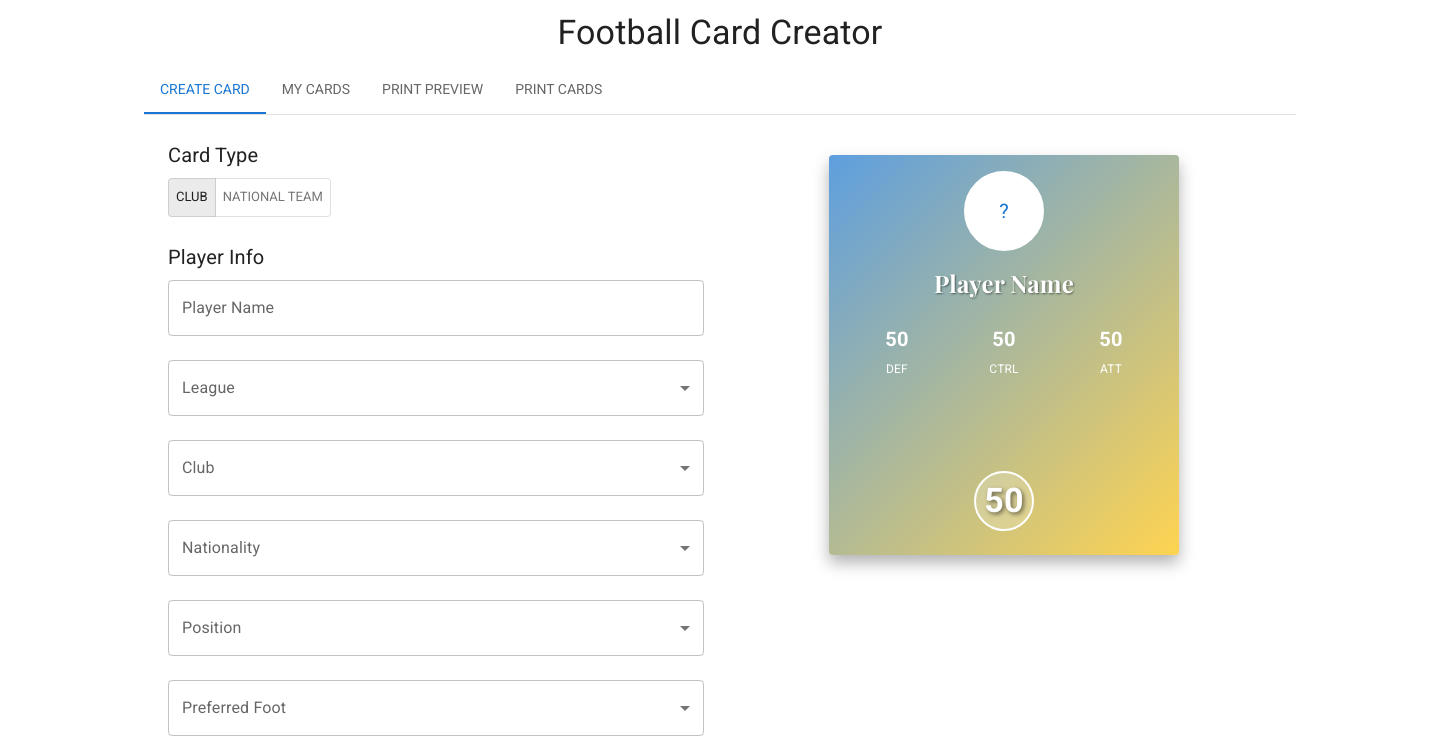
Test: Font persistence › switching between saved cards shows each card's fonts
Click the tab "My Cards": (316, 90) [266, 66, 366, 114]
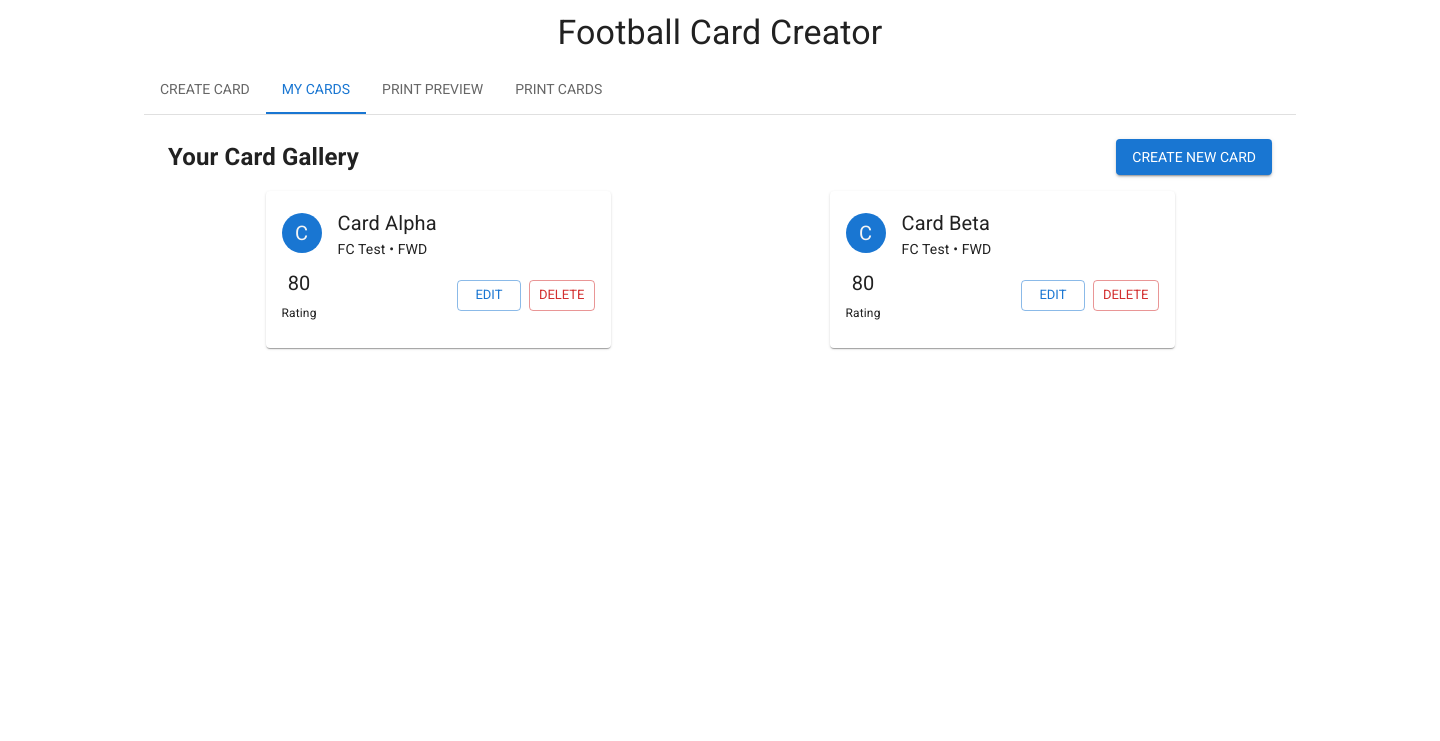
// Edit first card and verify its font
Click the button "Edit" below "Card Alpha": (489, 296) [457, 280, 521, 311]
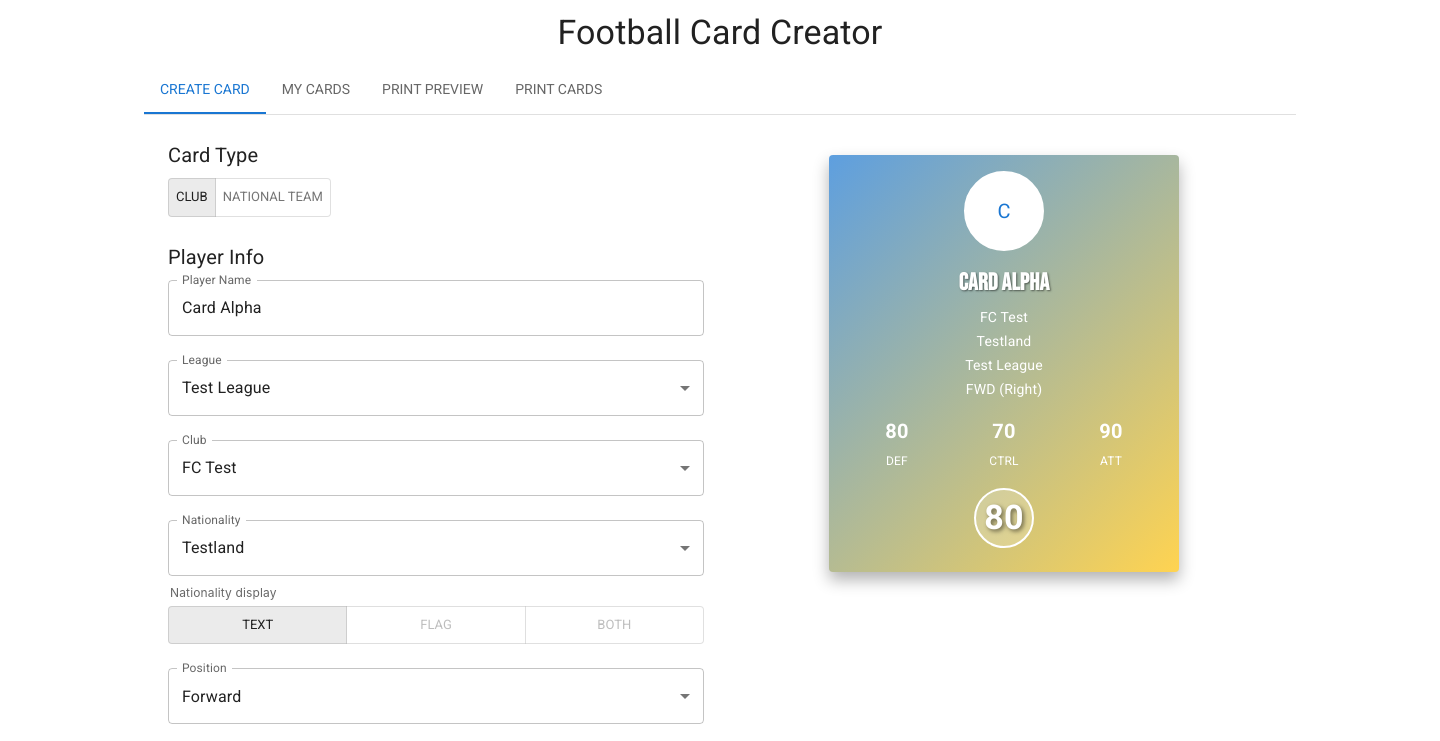
Check: the field labelled "Player Name" is shown, box [168, 280, 704, 336]
// Return to gallery and edit second card
Click the tab "My Cards": (316, 90) [266, 66, 366, 114]
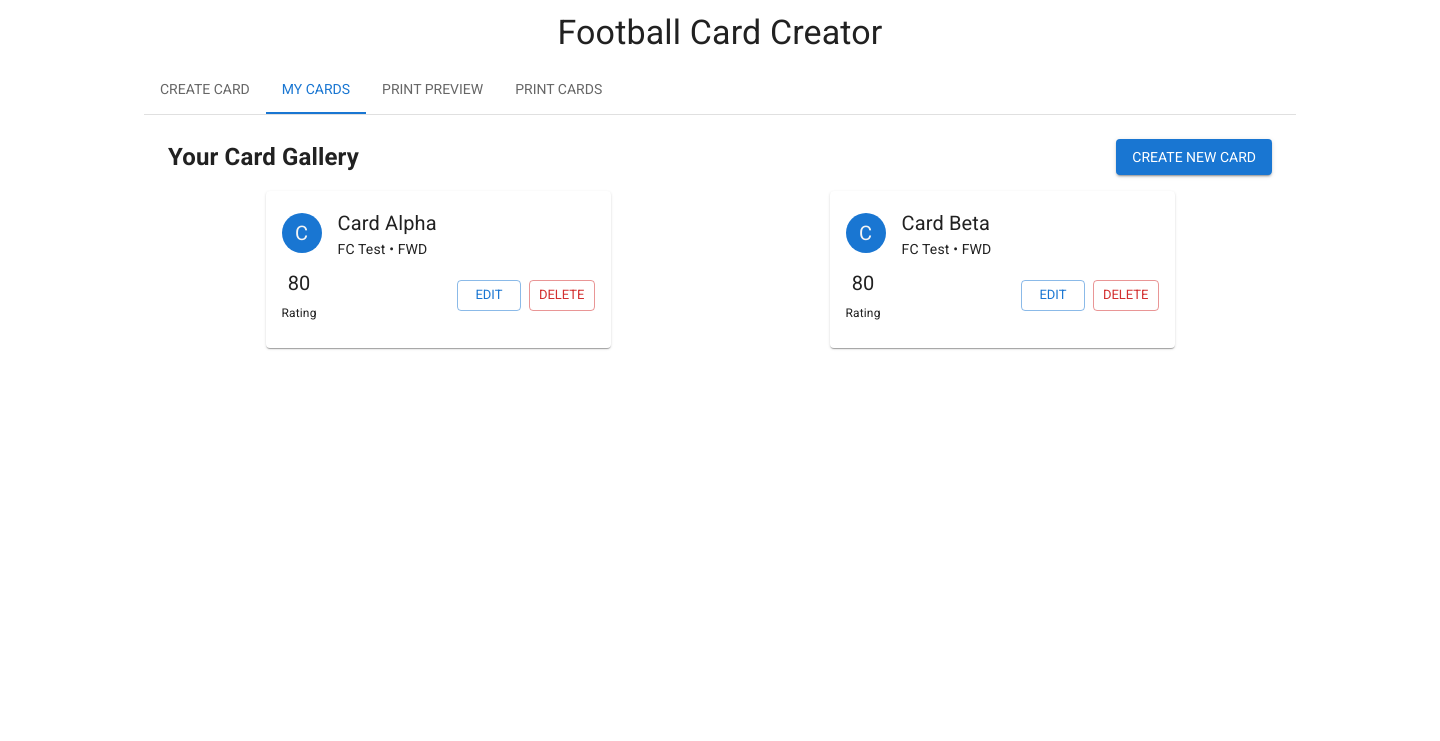
Click the button "Edit" below "Card Beta": (1053, 296) [1021, 280, 1085, 311]
(page scrolled)
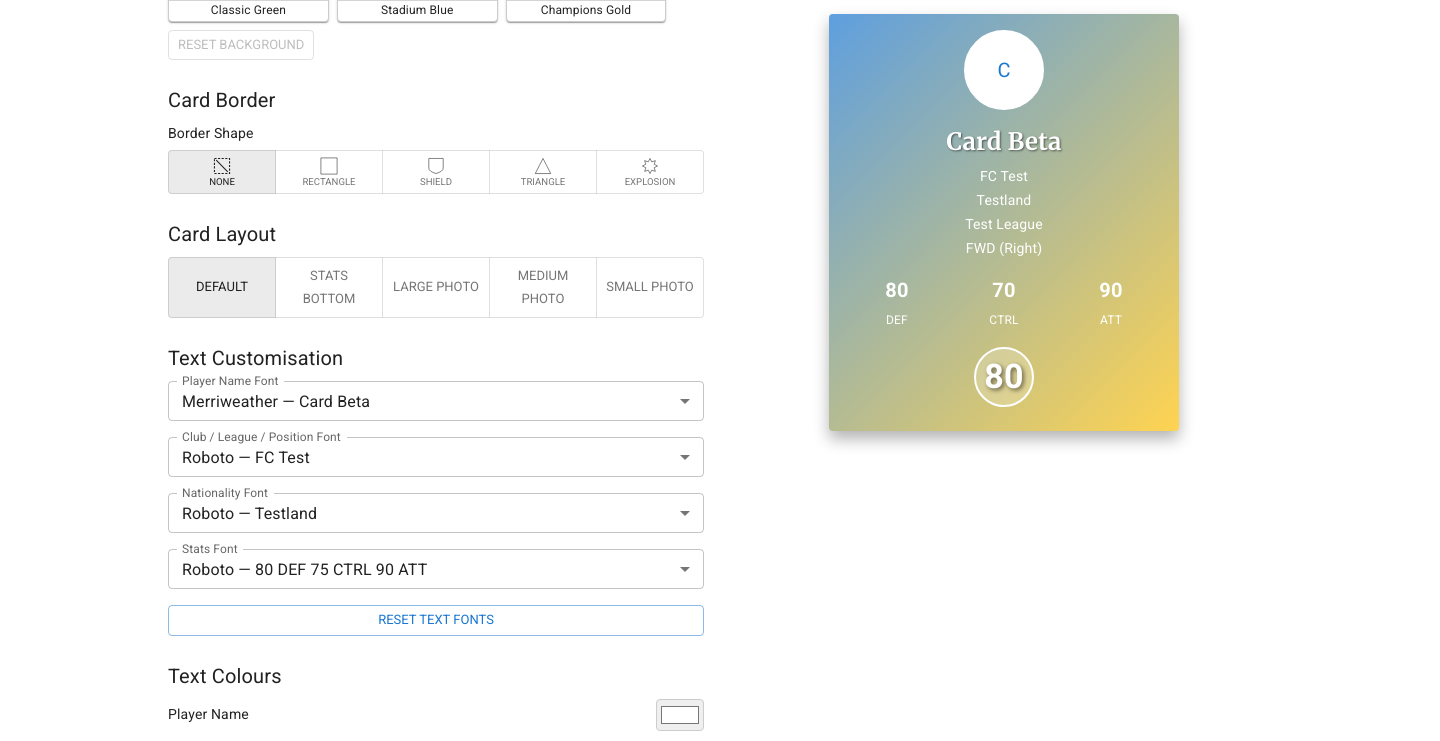
Check: the dropdown labelled "Merriweather — Card Beta" is shown, box [182, 392, 370, 411]
